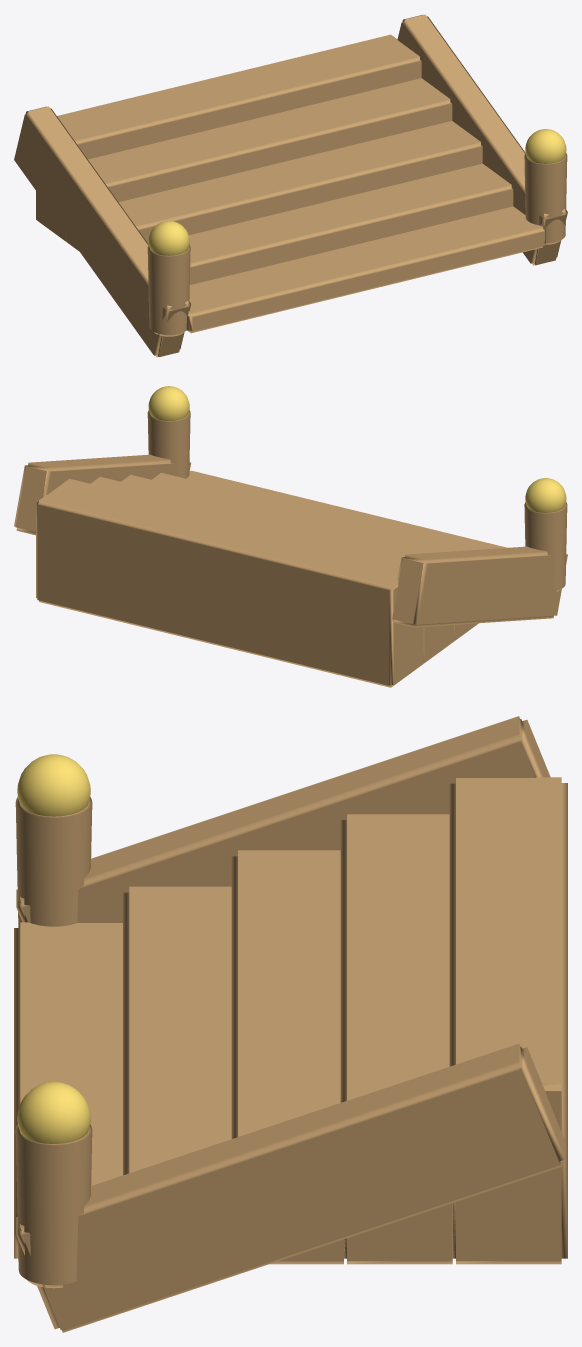
The model's file is castle_stairs_wood.glb.
The picture shows the model from 3 angles, top to bottom: view 1: azimuth 30°, elevation 25°; view 2: azimuth 150°, elevation 25°; view 3: azimuth 270°, elevation 25°; orthographic projection. The views are drawn at different scales.
Visible parts, largest first — view 1: Step_4, Step_3, Step_0, Step_2, Step_1, Cheek_-2.42, Cheek_2.42, Newel_-2.42, Newel_2.42, NewelCap_2.42, NewelCap_-2.42; view 2: Step_4, Cheek_-2.42, Cheek_2.42, Step_3, Step_2, Step_1, Step_0, Newel_-2.42, Newel_2.42, NewelCap_2.42, NewelCap_-2.42; view 3: Cheek_2.42, Step_4, Step_3, Step_2, Step_1, Cheek_-2.42, Step_0, Newel_2.42, Newel_-2.42, NewelCap_-2.42, NewelCap_2.42.
Part boxes in pixels (x1=…): Step_4: x1=36, y1=34, x2=421, y2=243; Step_3: x1=66, y1=78, x2=452, y2=251; Step_0: x1=186, y1=206, x2=545, y2=333; Step_2: x1=119, y1=121, x2=482, y2=243; Step_1: x1=188, y1=163, x2=513, y2=284; Cheek_-2.42: x1=14, y1=106, x2=190, y2=357; Cheek_2.42: x1=397, y1=14, x2=567, y2=265; Newel_-2.42: x1=147, y1=245, x2=190, y2=336; Newel_2.42: x1=524, y1=153, x2=567, y2=244; NewelCap_2.42: x1=525, y1=129, x2=566, y2=163; NewelCap_-2.42: x1=148, y1=221, x2=189, y2=255; Step_4: x1=36, y1=478, x2=423, y2=687; Cheek_-2.42: x1=392, y1=546, x2=567, y2=627; Cheek_2.42: x1=14, y1=454, x2=190, y2=535; Step_3: x1=91, y1=476, x2=454, y2=665; Step_2: x1=121, y1=475, x2=478, y2=642; Step_1: x1=152, y1=472, x2=476, y2=551; Step_0: x1=186, y1=470, x2=507, y2=549; Newel_-2.42: x1=524, y1=502, x2=567, y2=591; Newel_2.42: x1=147, y1=410, x2=190, y2=478; NewelCap_2.42: x1=148, y1=386, x2=189, y2=420; NewelCap_-2.42: x1=525, y1=478, x2=566, y2=512; Cheek_2.42: x1=16, y1=1043, x2=565, y2=1332; Step_4: x1=449, y1=777, x2=567, y2=1264; Step_3: x1=340, y1=814, x2=455, y2=1264; Step_2: x1=231, y1=850, x2=346, y2=1264; Step_1: x1=123, y1=886, x2=231, y2=1175; Cheek_-2.42: x1=16, y1=716, x2=550, y2=922; Step_0: x1=14, y1=922, x2=122, y2=1258; Newel_2.42: x1=15, y1=1124, x2=92, y2=1288; Newel_-2.42: x1=15, y1=797, x2=92, y2=927; NewelCap_-2.42: x1=17, y1=754, x2=90, y2=816; NewelCap_2.42: x1=17, y1=1082, x2=90, y2=1143.
Bounding box in the file's own units: 5.32 × 1.87 × 3.46.
